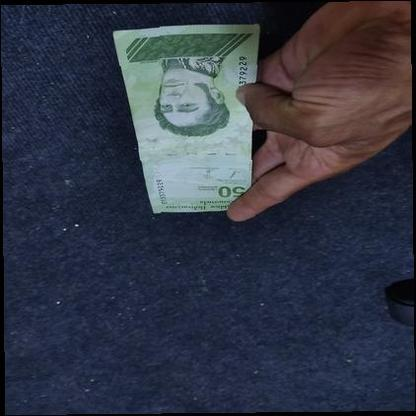fifty-front-vef: (113, 22, 260, 214)
